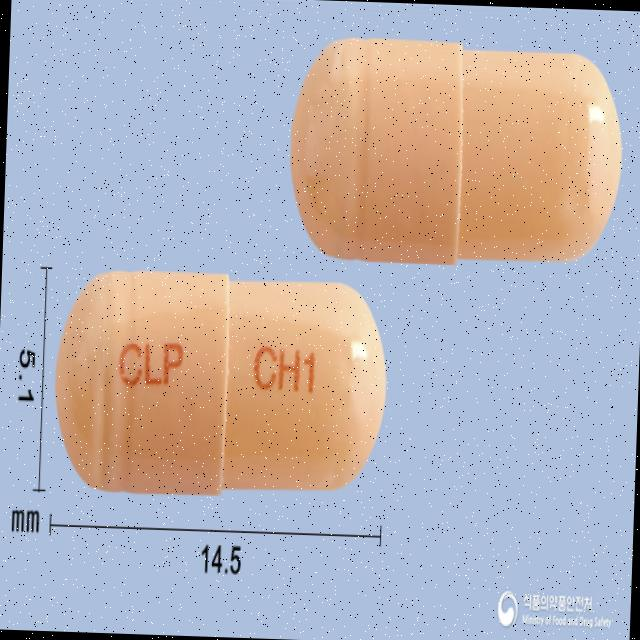Ceprion Cap: (284, 32, 632, 276), (48, 262, 394, 506)
